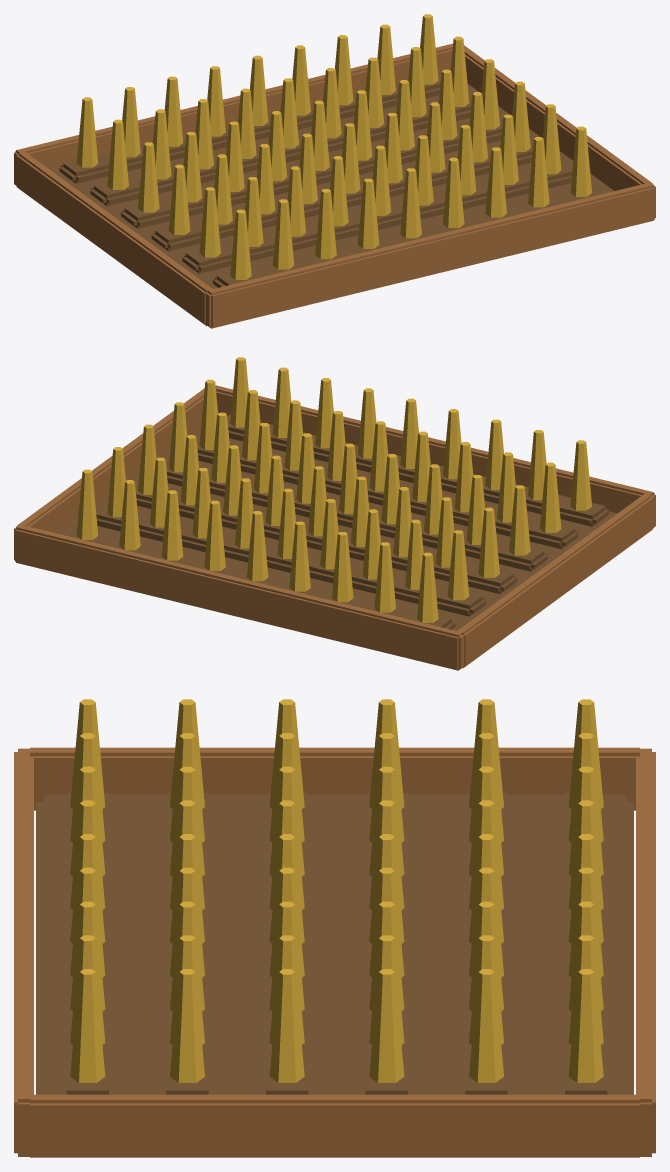
Rendered from field_wheat.glb.
The picture shows the model from 3 angles, top to bottom: view 1: azimuth 30°, elevation 25°; view 2: azimuth 150°, elevation 25°; view 3: azimuth 270°, elevation 25°; orthographic projection. The views are drawn at different scales.
Visible parts, largest first — view 1: field_wheat; view 2: field_wheat; view 3: field_wheat.
Boxes of the visible parts, x1,y1,x2,y2 form: field_wheat: (14,14,655,328); field_wheat: (14,357,655,670); field_wheat: (14,699,655,1157).
Size of the model in its own units: 2.11 by 0.4 by 1.61.
